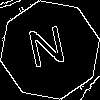N: (25, 25, 70, 78)
